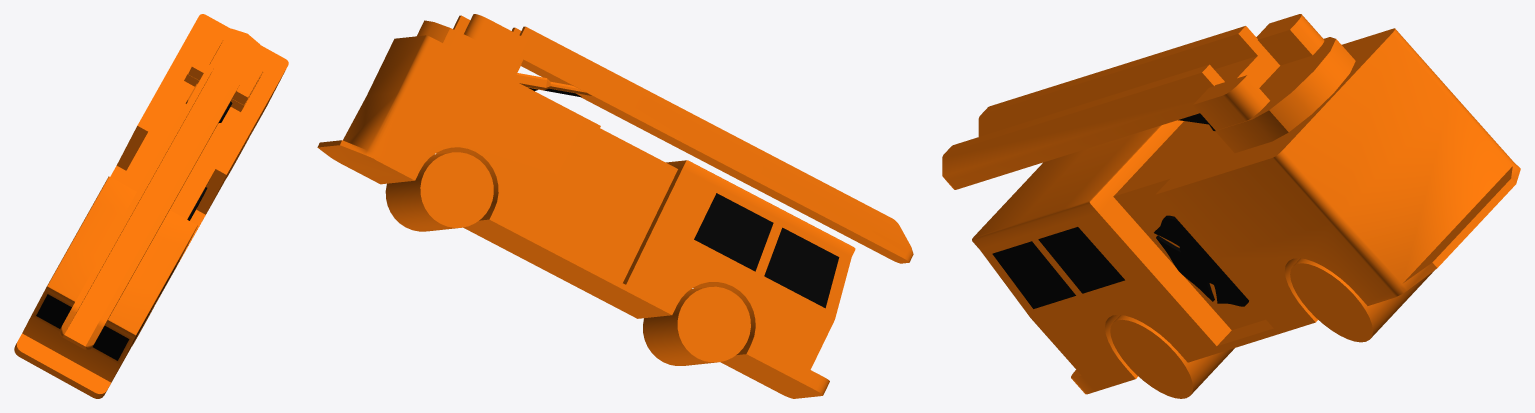
The model's file is Firetruck_I_01.fbx.
3 renders of one model, left to right at view 1: azimuth 30°, elevation 25°; view 2: azimuth 150°, elevation 25°; view 3: azimuth 270°, elevation 25°, orthographic. The views are drawn at different scales.
Parts seen in each view (by area): view 1: Firetruck_I_01; view 2: Firetruck_I_01; view 3: Firetruck_I_01.
Part boxes in pixels (x1,y1,x2,y2): Firetruck_I_01: (14,14,288,398); Firetruck_I_01: (317,14,913,398); Firetruck_I_01: (942,14,1520,398).
Size of the model in its own units: 130 by 110 by 108.
